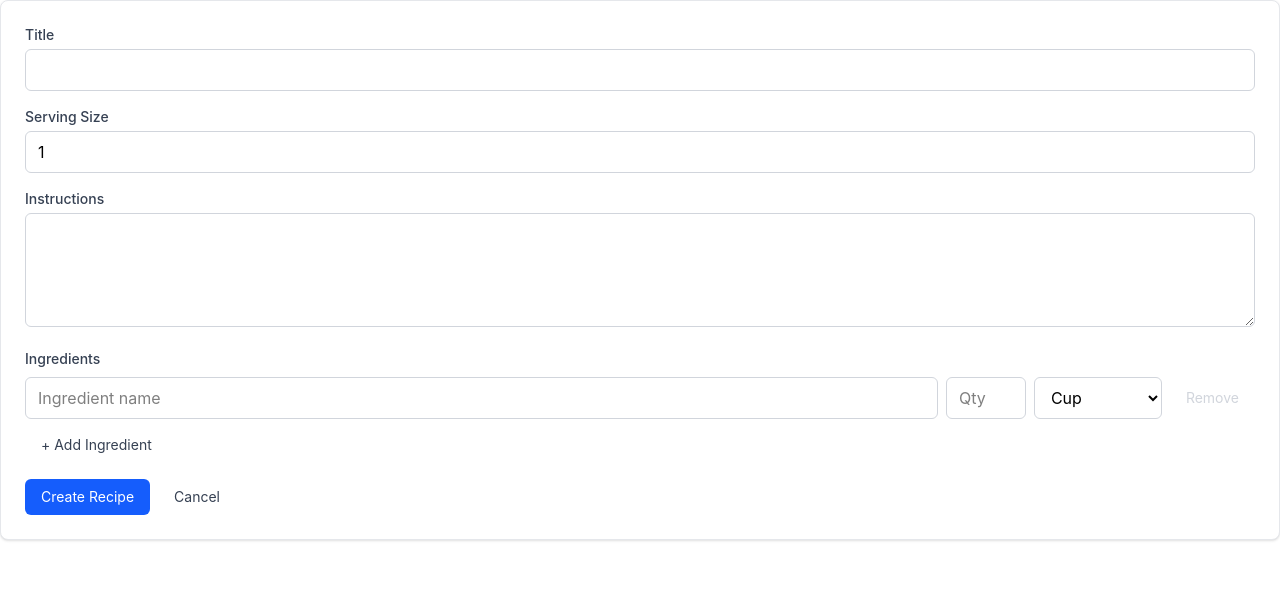
Test: RecipeForm › adds a new ingredient row when "Add Ingredient" is clicked
Click the button "+ Add Ingredient".
click(96, 445)  # box [25,427,168,463]
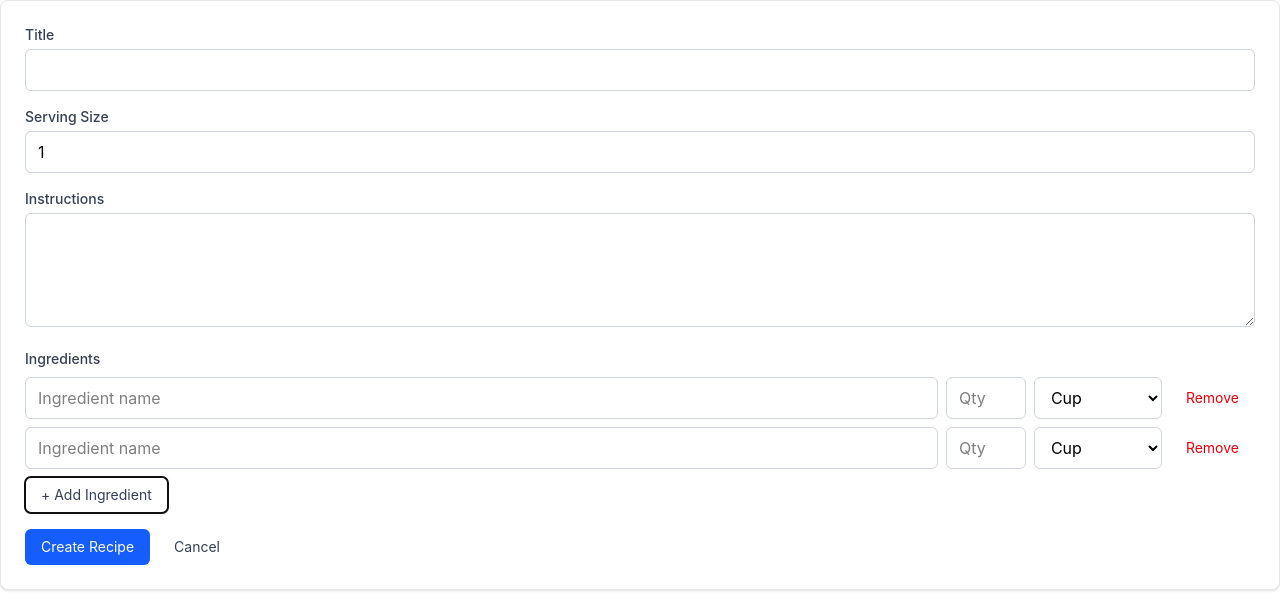
Now the number of fields with placeholder "Ingredient name" is 2, box [25,377,938,419]; [25,427,938,469]
